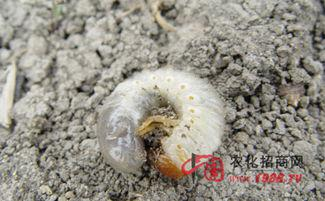grub: (95, 65, 227, 180)
